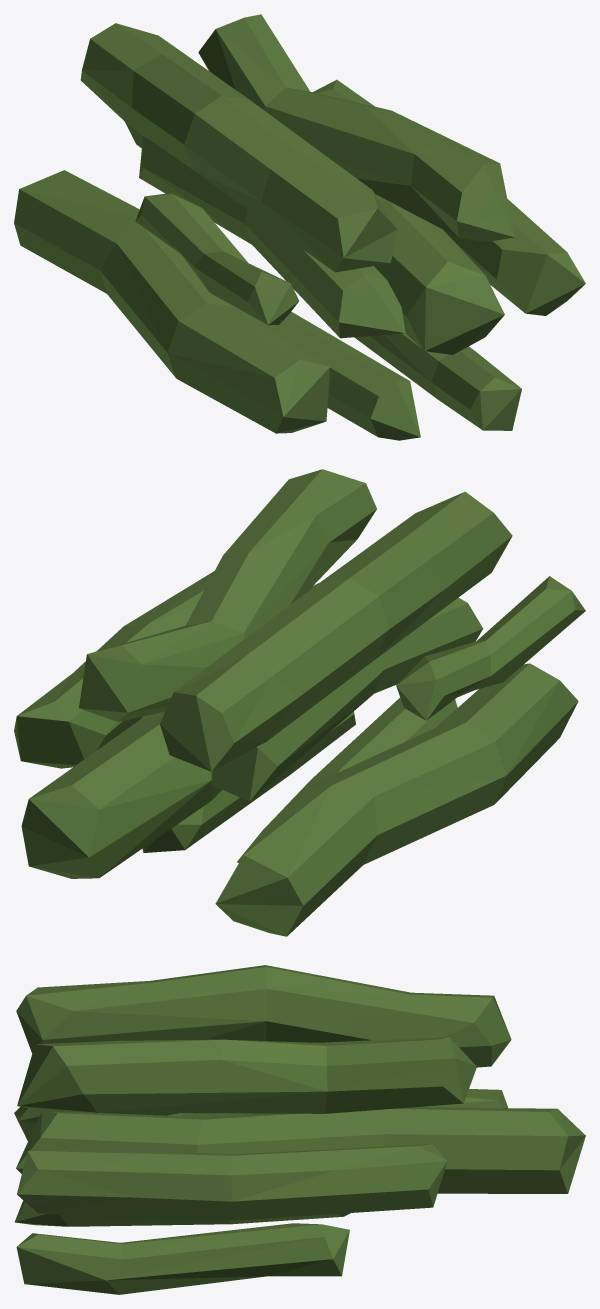
File: plant4.fbx
3 renders of one model, top to bottom at view 1: azimuth 30°, elevation 25°; view 2: azimuth 150°, elevation 25°; view 3: azimuth 270°, elevation 25°, orthographic. The views are drawn at different scales.
Visible parts, largest first — view 1: plant4; view 2: plant4; view 3: plant4.
Part boxes in pixels (<box>): plant4: <box>14,14,585,440</box>; plant4: <box>14,469,585,936</box>; plant4: <box>14,965,585,1294</box>.
Size of the model in its own units: 10692 by 5325 by 6690.
